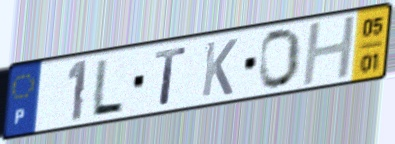1: (65, 57, 90, 125)
H: (299, 12, 359, 89)
K: (199, 36, 240, 100)
L: (88, 56, 127, 117)
O: (257, 26, 304, 92)
T: (153, 44, 188, 106)
